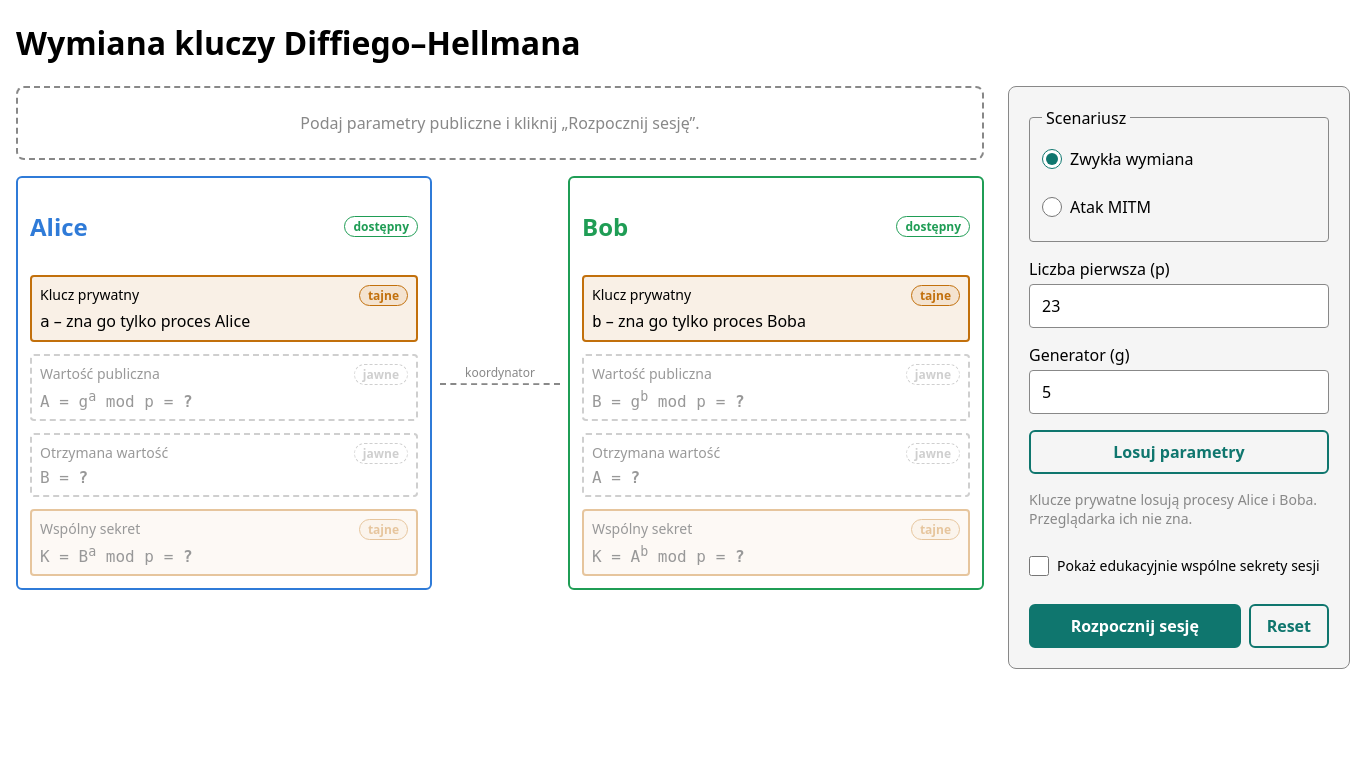
Scenario: formularz DH › odrzucenie przez backend pokazuje komunikat role=alert
This screenshot has width=1366, height=768.
Replace the text in the field labelled "Liczba pierwsza (p)" with "24" at (1179, 306), box left=1029, top=284, right=1329, bottom=328
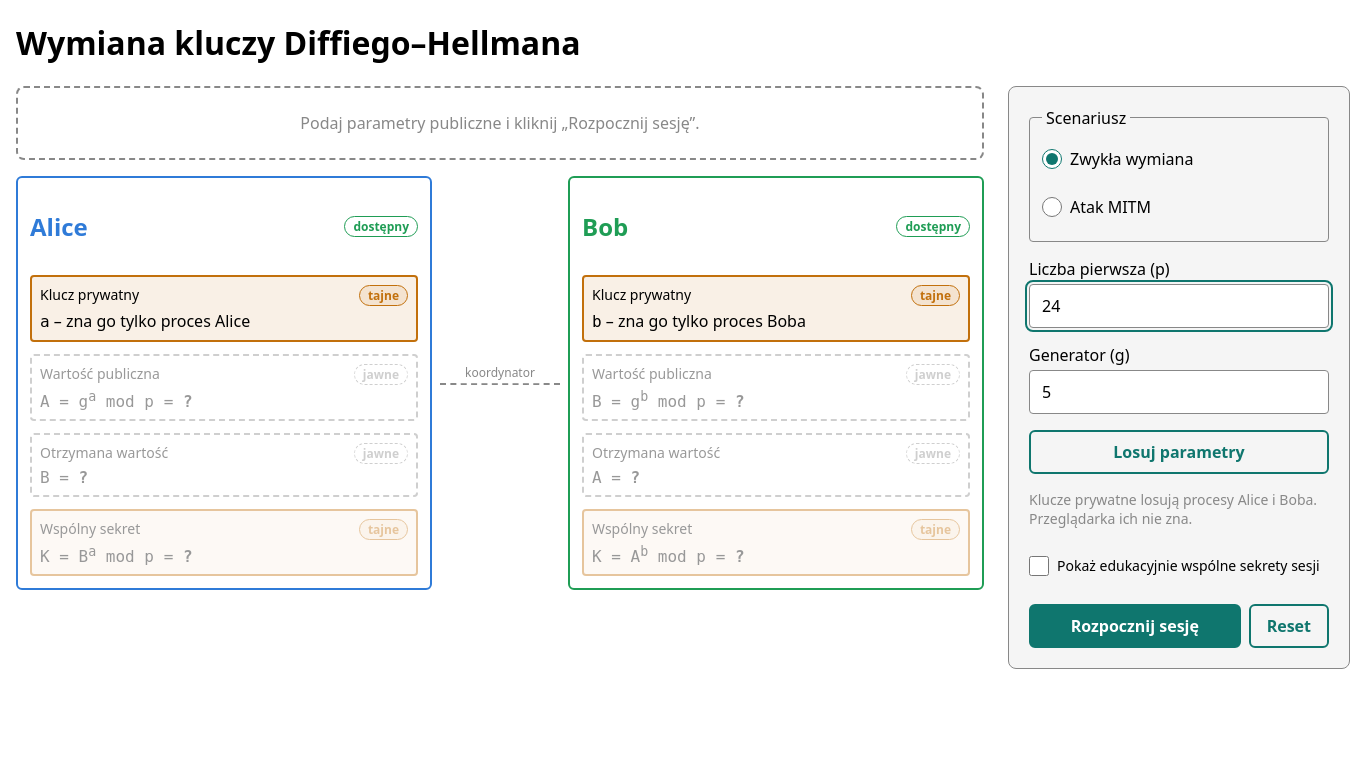
Click the button "Rozpocznij sesję" at (1135, 626), box left=1029, top=604, right=1241, bottom=648
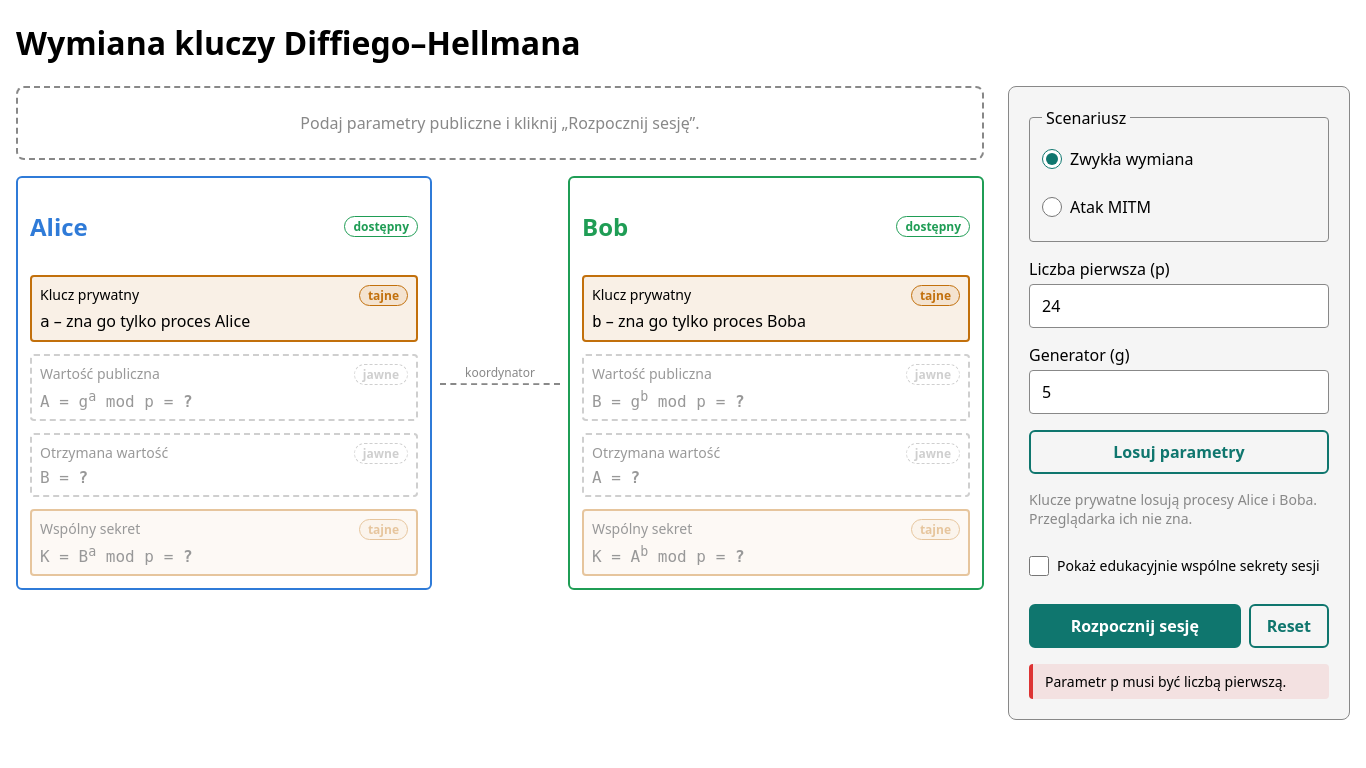
Check: the message reads "Parametr p musi być liczbą pierwszą.", box left=1045, top=672, right=1286, bottom=691
